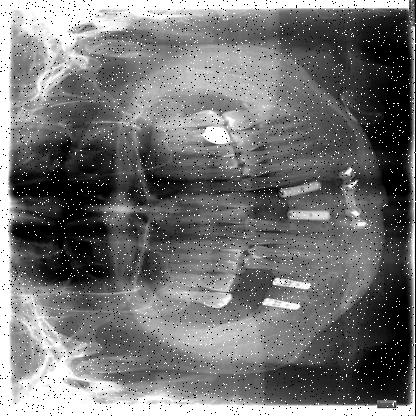ITI: (272, 182, 332, 198), (286, 209, 338, 224), (270, 276, 322, 290), (257, 298, 306, 312)
